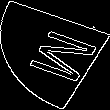M_SE: (12, 24, 98, 86)
